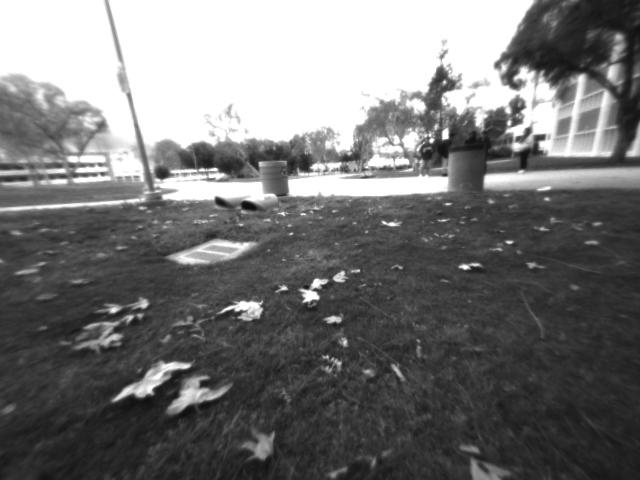trashcan: (443, 137, 489, 194), (250, 155, 295, 199)
